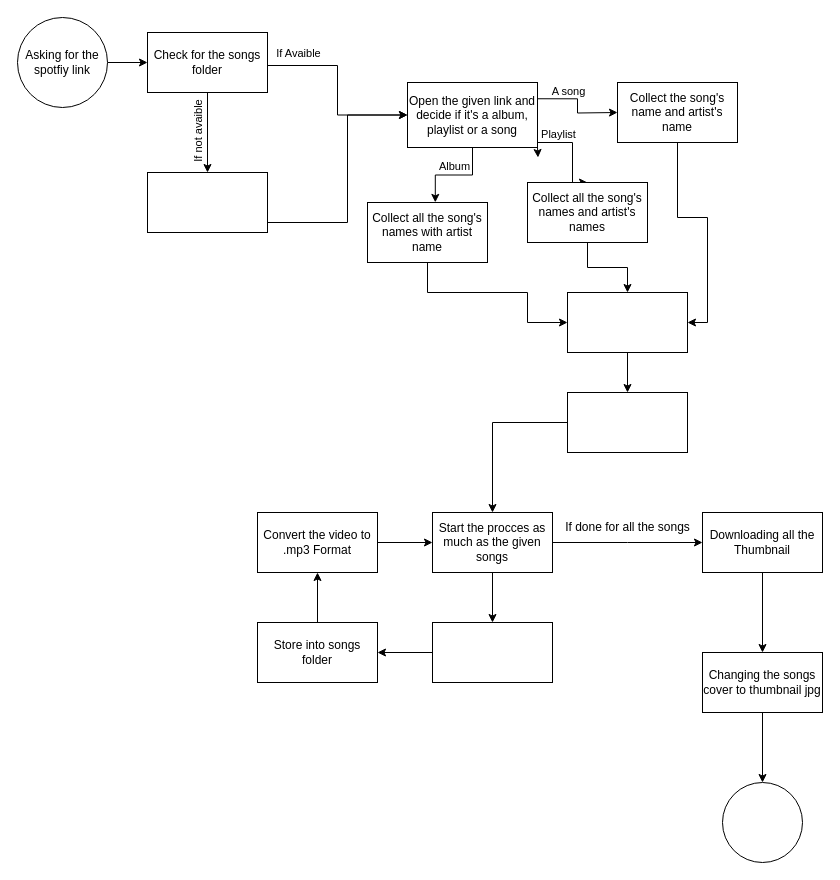
The diagram is 840 pixels wide and 880 high, and some of its shapes have lost their labels. The centre of each missing label's shape, as x and y in pixels:
"Collect each one video ids" goes at pixel 627 422.
"Downloading the video ids video" goes at pixel 492 652.
"Make the songs folder" goes at pixel 207 202.
"Searching the title and artist name in Youtube" goes at pixel 627 322.
"Sons is ready" goes at pixel 762 822.
